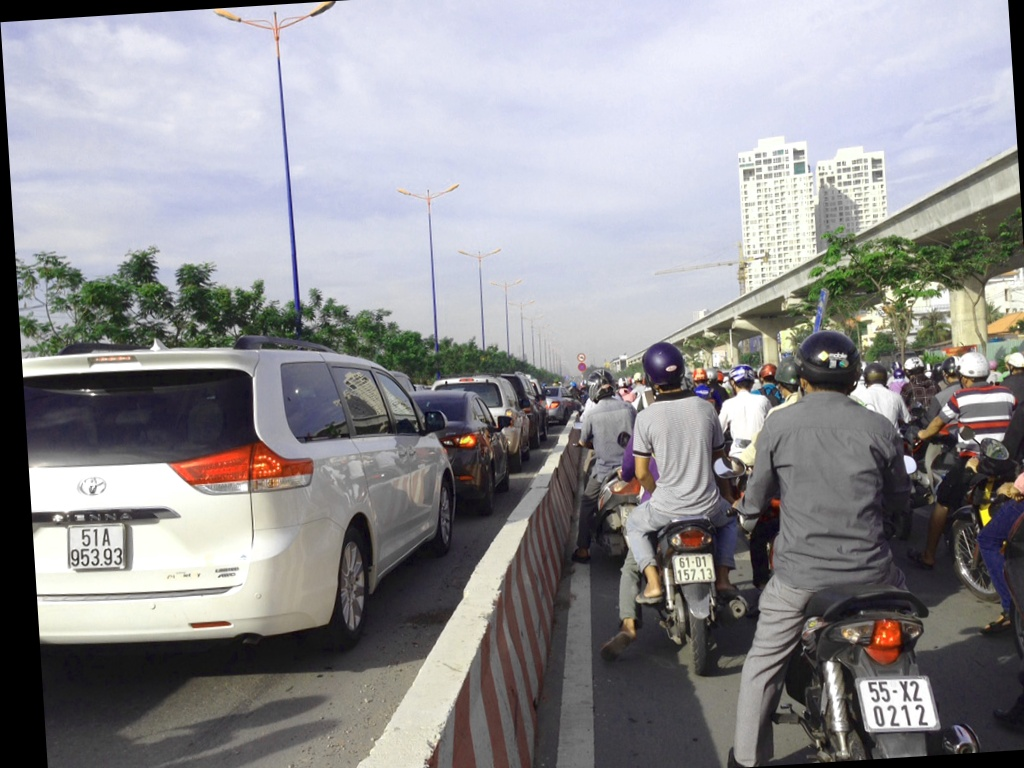Bien-so: (859, 675, 946, 732), (59, 523, 134, 575), (673, 552, 717, 591)
